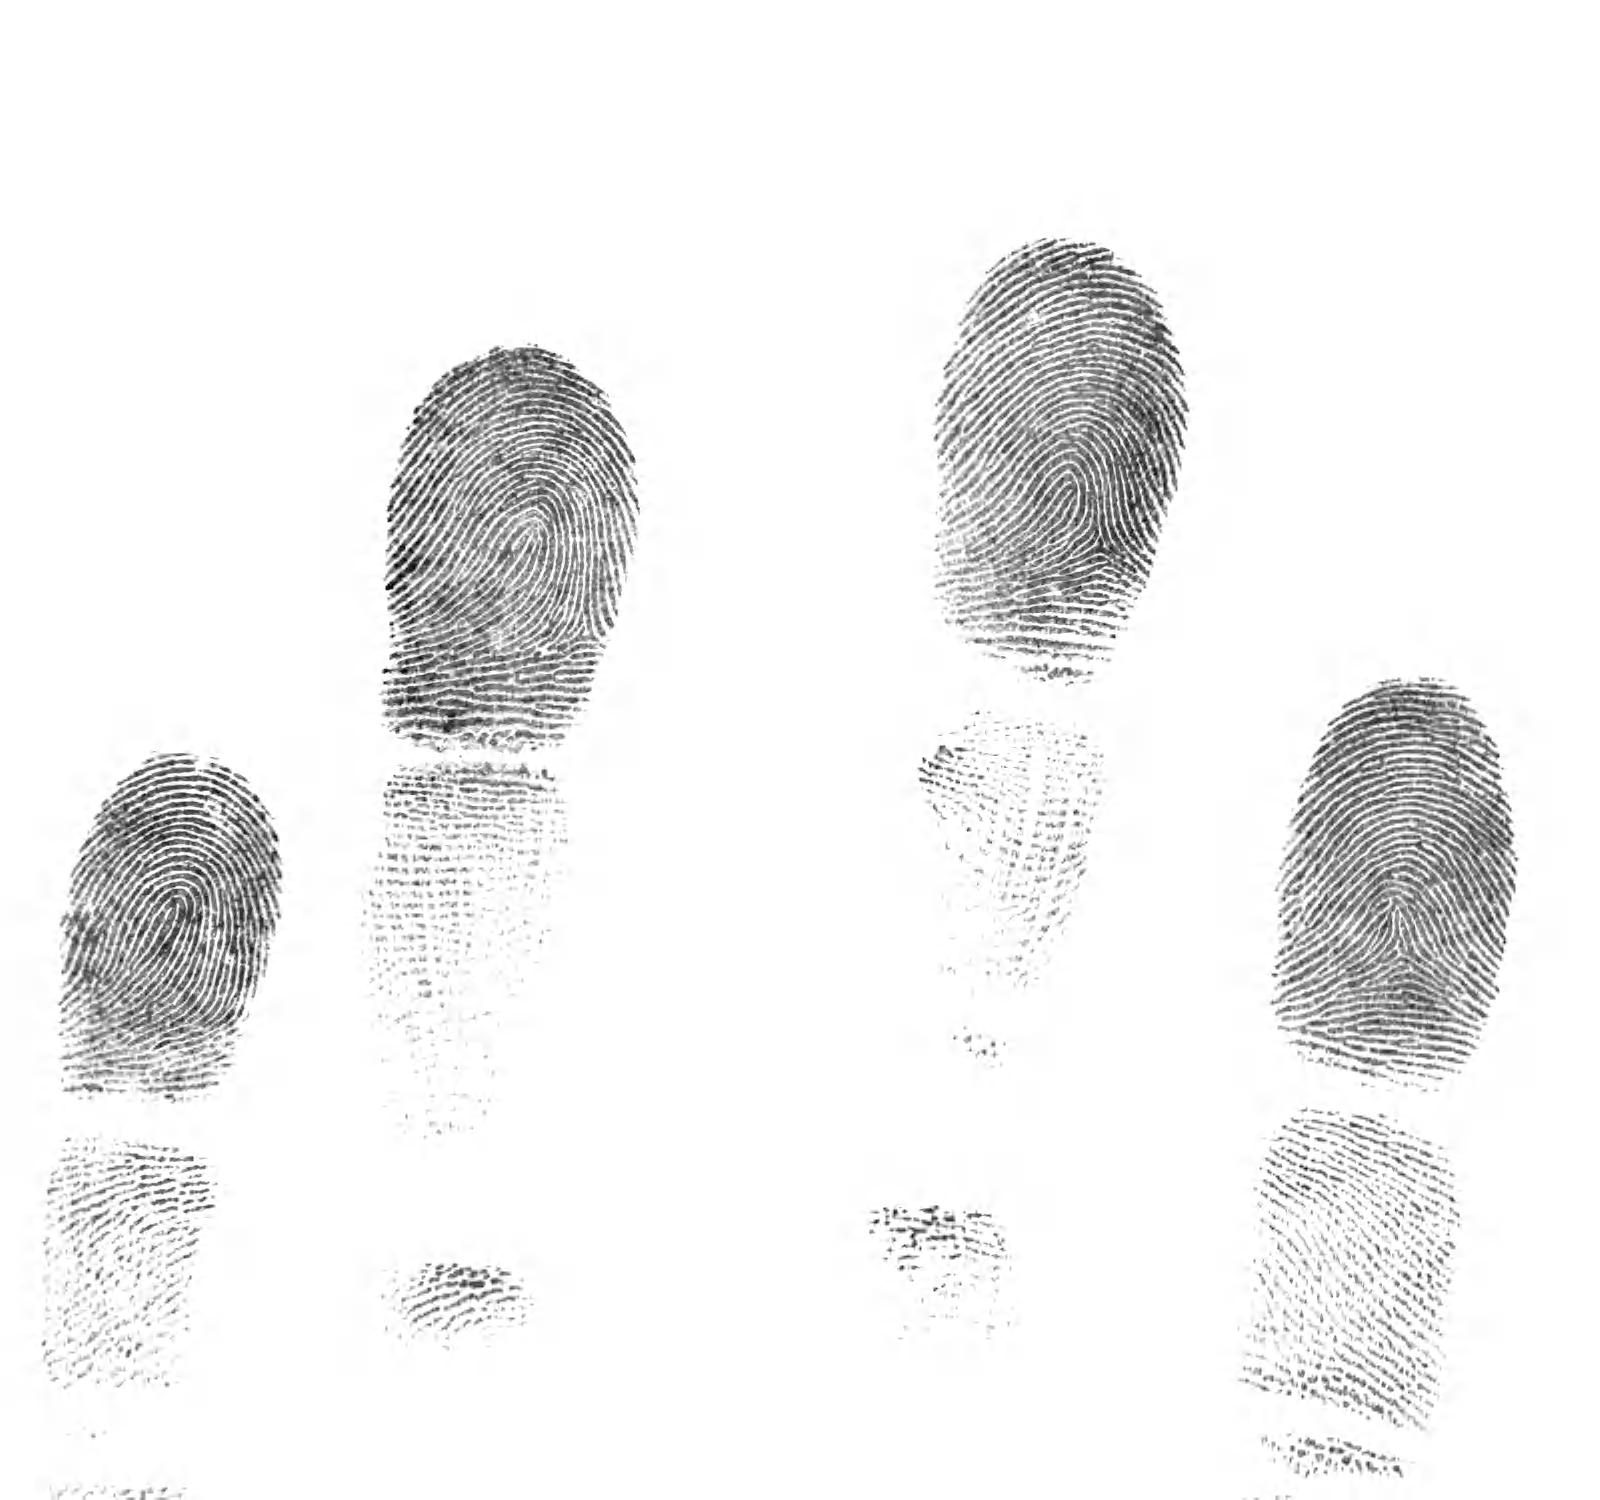distal: (922, 226, 1207, 698), (368, 331, 653, 763), (1264, 664, 1525, 1100), (51, 742, 273, 1111)
proximal: (359, 750, 591, 1145), (892, 705, 1128, 1088), (1238, 1104, 1467, 1439), (35, 1136, 219, 1398)
